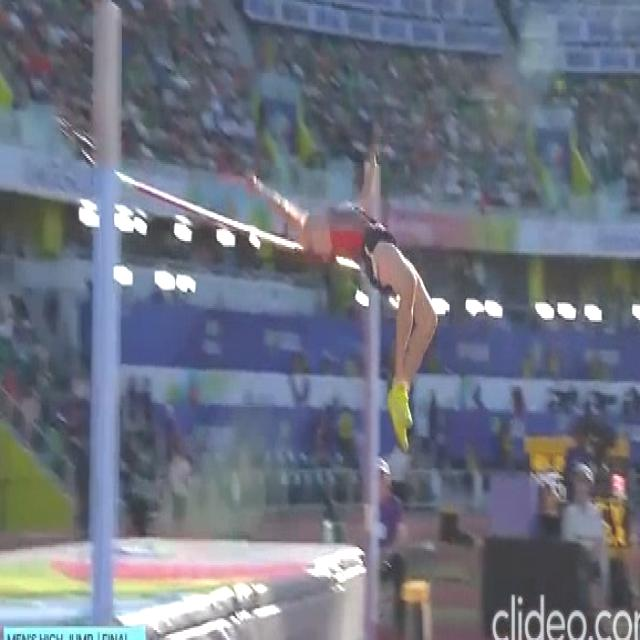jump: (244, 148, 436, 450)
